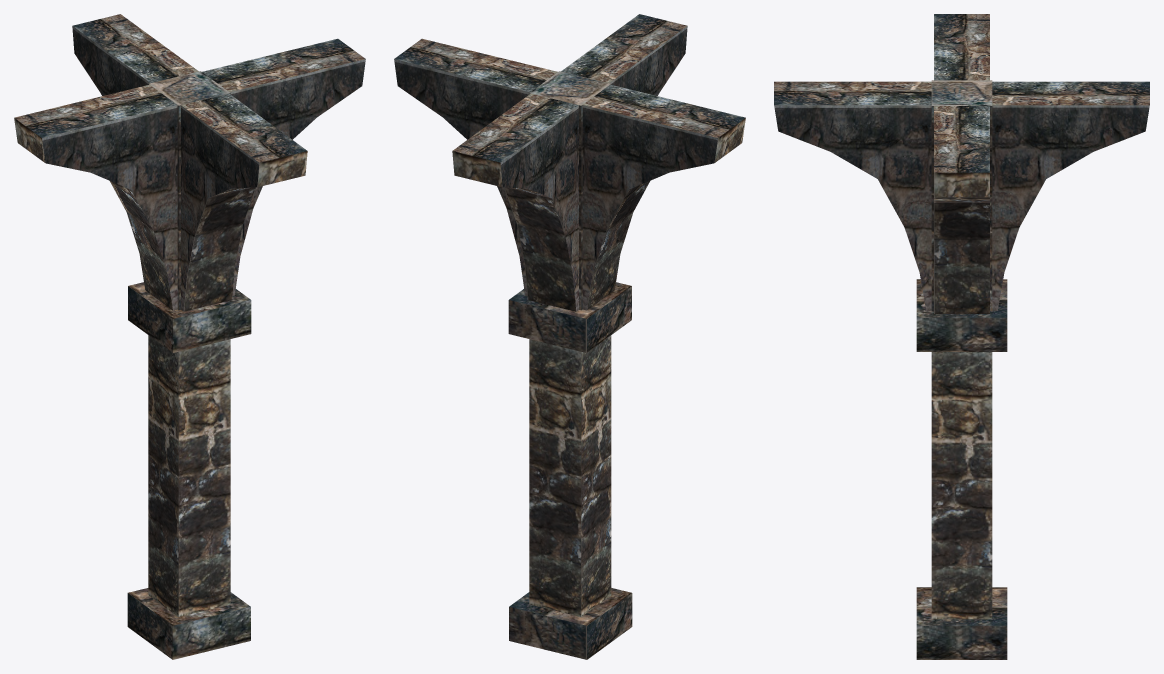
The model's file is Lab_ColumnArc.gltf.
3 renders of one model, left to right at view 1: azimuth 30°, elevation 25°; view 2: azimuth 150°, elevation 25°; view 3: azimuth 270°, elevation 25°, orthographic.
Visible parts, largest first — view 1: Lab_ColumnArc; view 2: Lab_ColumnArc; view 3: Lab_ColumnArc.
Boxes of the visible parts, bbox=[...] form: Lab_ColumnArc: bbox=[14, 14, 365, 659]; Lab_ColumnArc: bbox=[394, 14, 745, 659]; Lab_ColumnArc: bbox=[774, 14, 1149, 659].
Size of the model in its own units: 0.0162 by 0.026 by 0.0162.
1 material, 1 textured.
